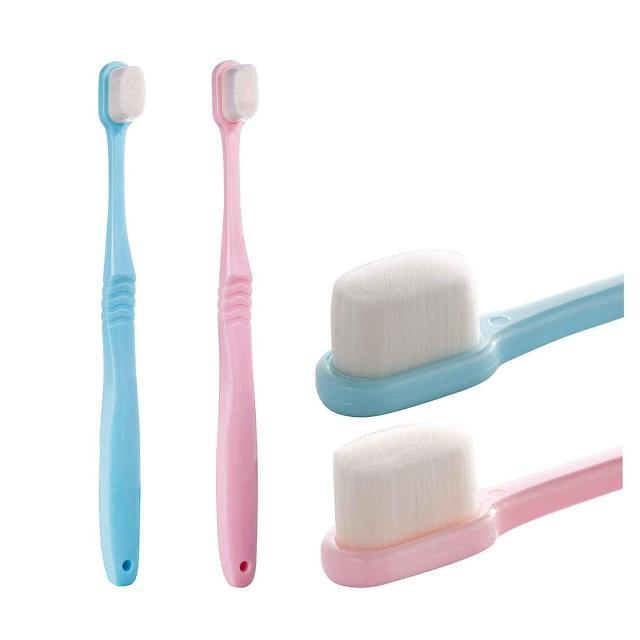toothbrush: (86, 52, 166, 596)
